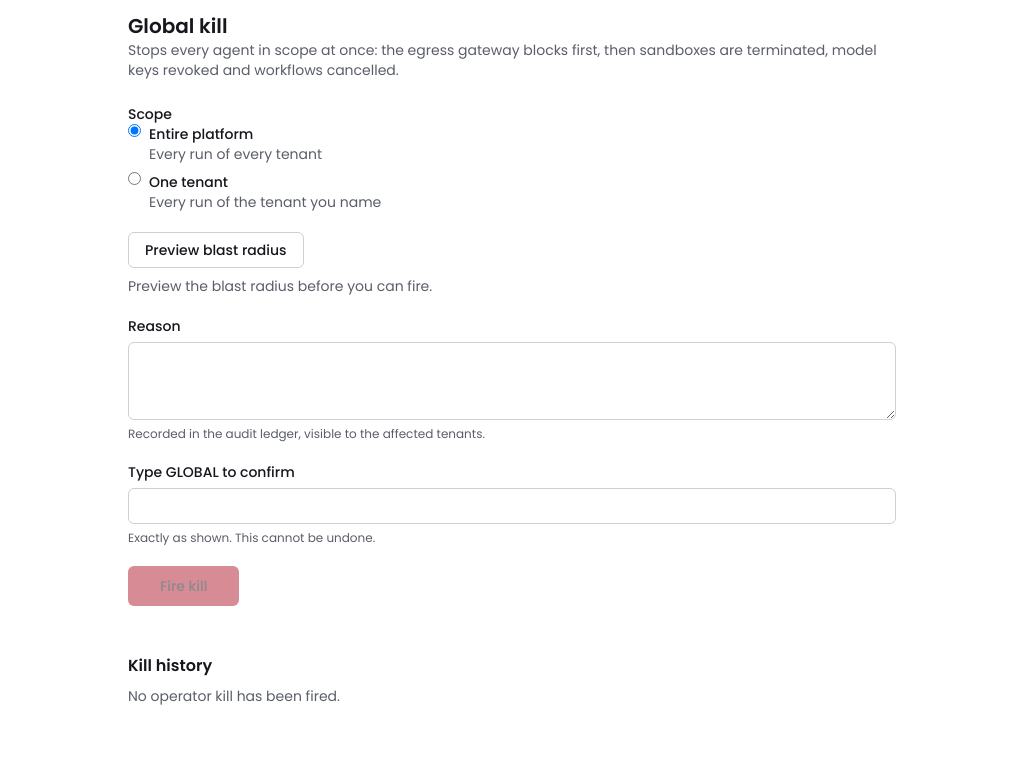
Test case: GlobalKillPanel: halt progress (simulated kill) › does not claim success when the status cannot be read
Click the button "Preview blast radius" at (216, 250), box x1=128 y1=232 x2=304 y2=268
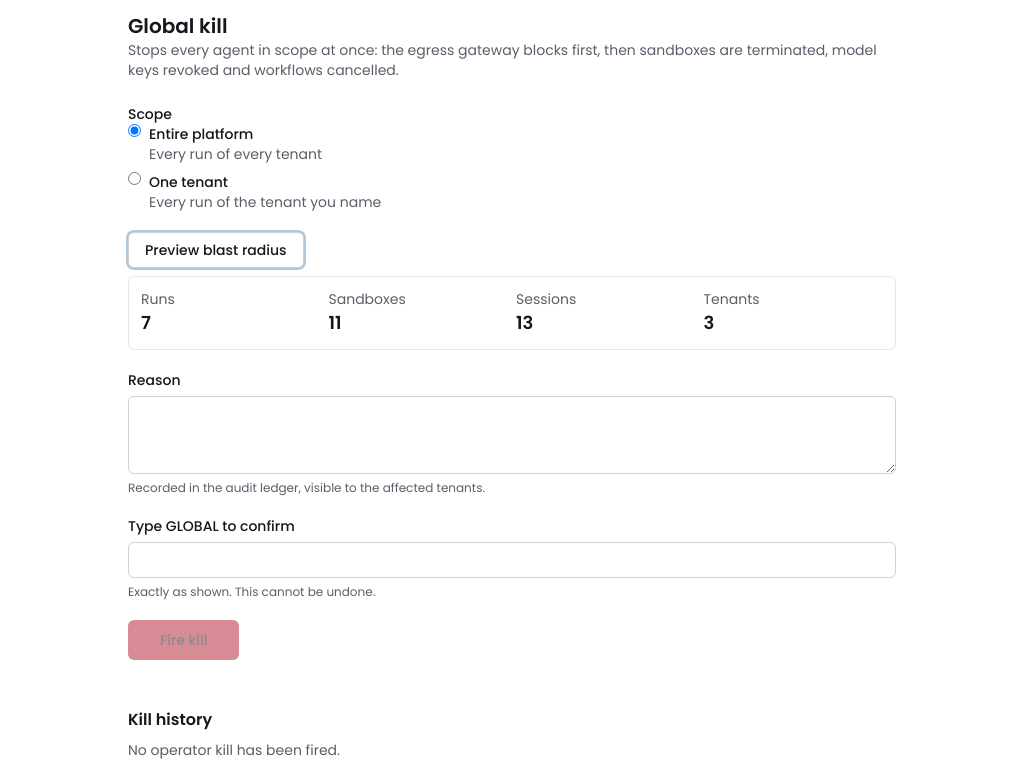
expect the text "Preview the blast radius before" is gone: met
Type "platform incident" into the text box labelled "Reason" at (512, 435), box x1=128 y1=396 x2=896 y2=474
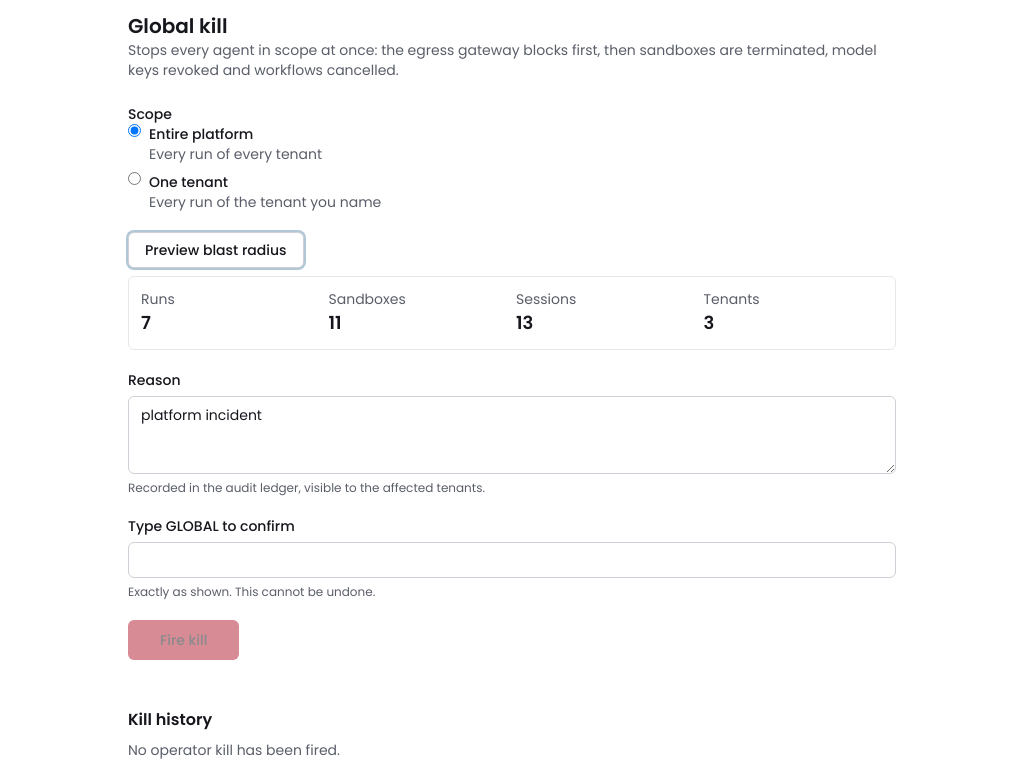
Type "GLOBAL" into the field labelled "Type GLOBAL to confirm" at (512, 560), box x1=128 y1=542 x2=896 y2=578
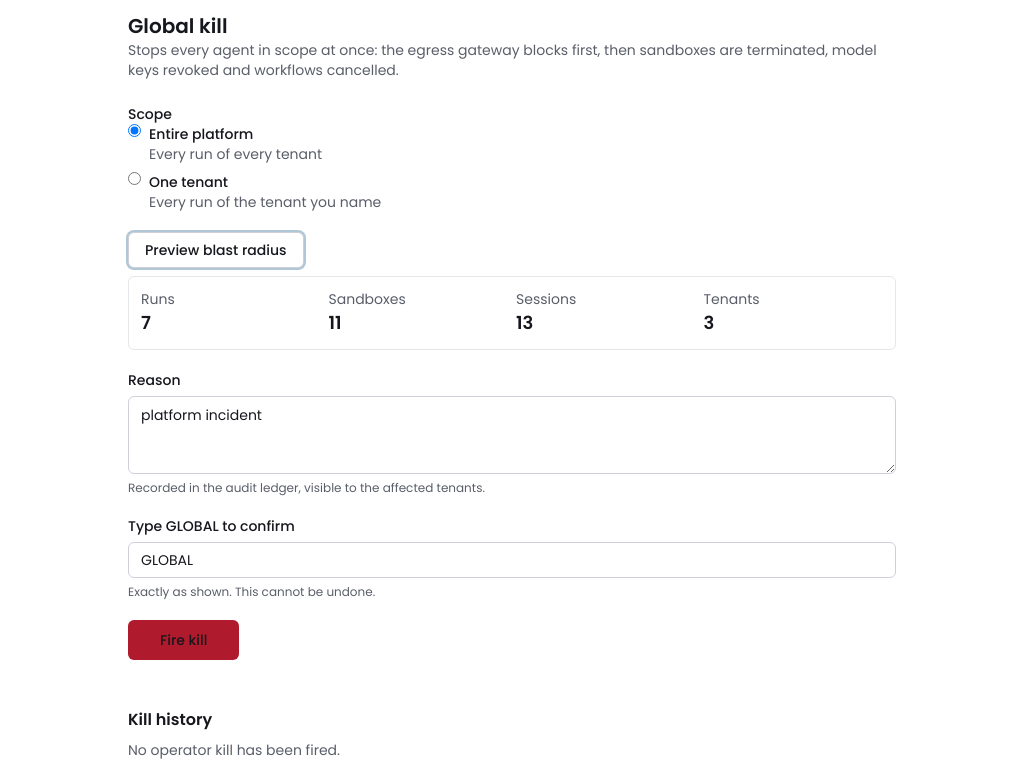
Click the button "Fire kill" at (184, 640), box x1=128 y1=620 x2=239 y2=660
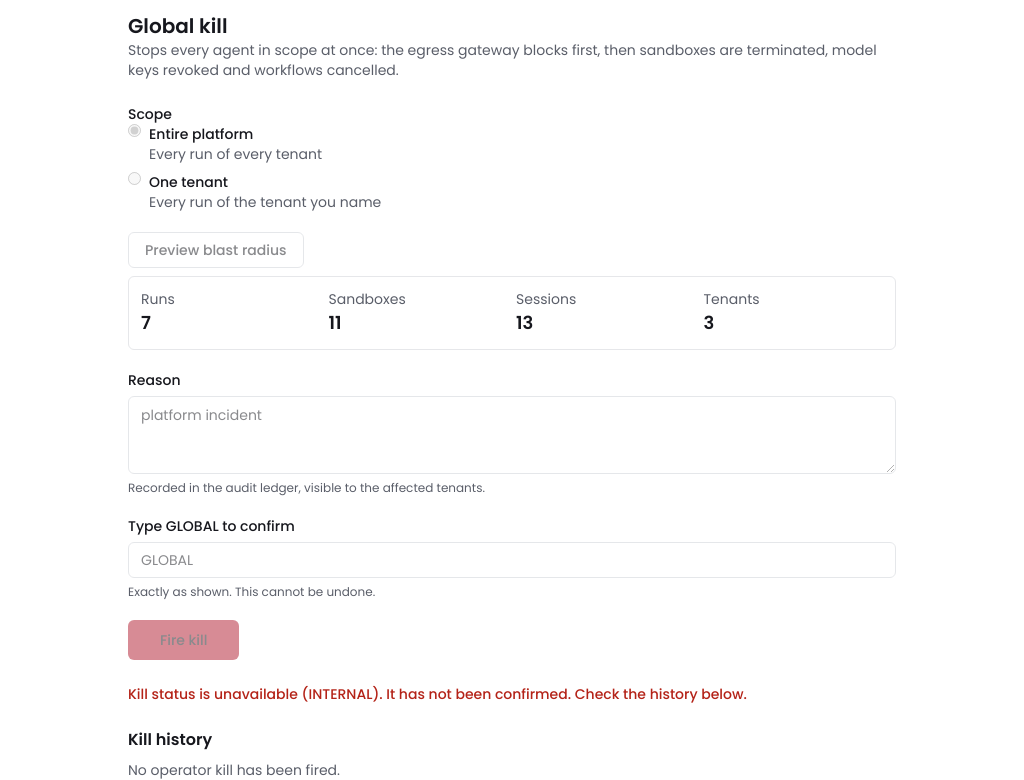
expect the text "Kill status is unavailable" is shown: met, box x1=128 y1=684 x2=308 y2=704
